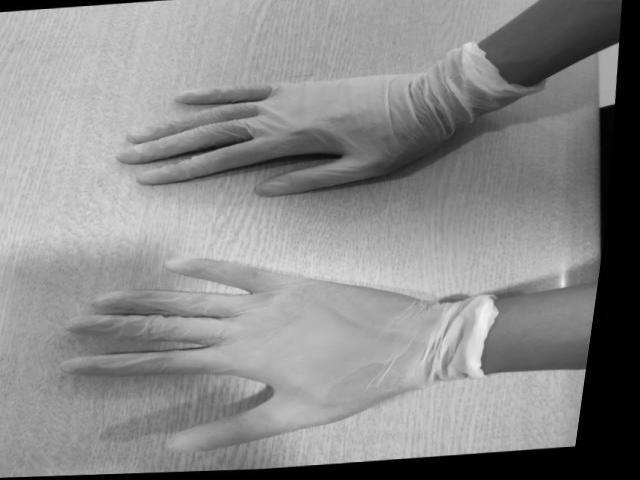gloved: (66, 256, 448, 450), (119, 70, 442, 198)
